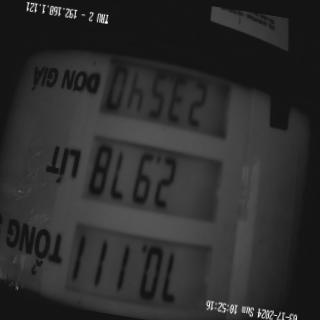screen: (56, 29, 247, 320)
